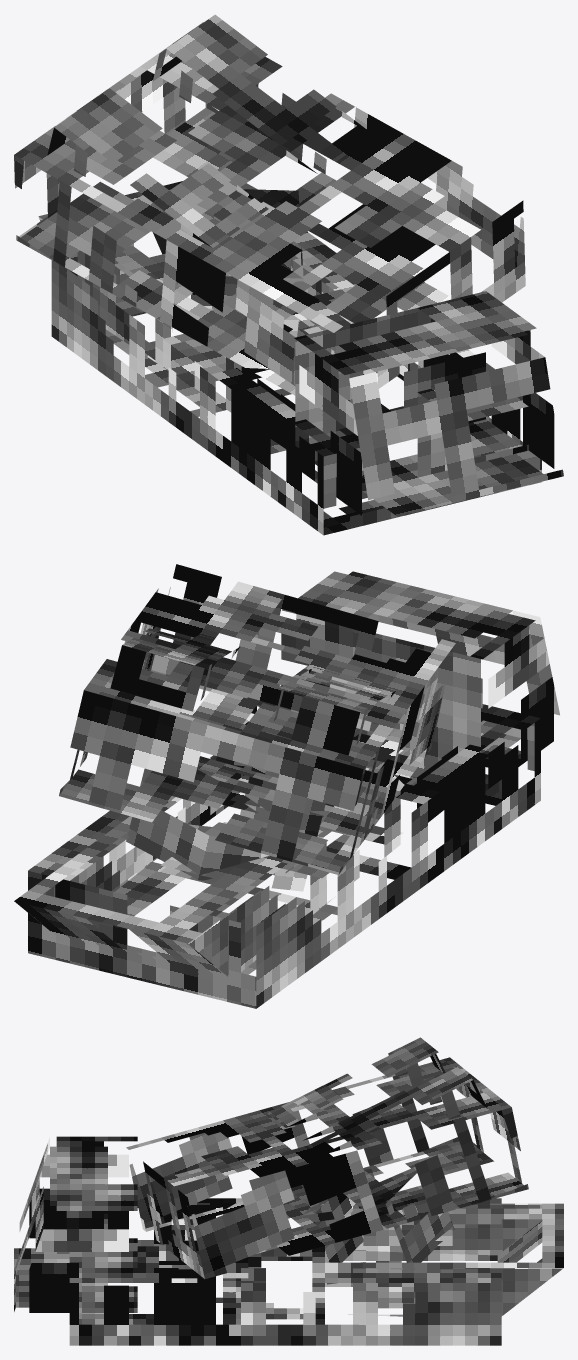
The model's file is lrmc_wreck.glb.
The picture shows the model from 3 angles, top to bottom: view 1: azimuth 30°, elevation 25°; view 2: azimuth 150°, elevation 25°; view 3: azimuth 270°, elevation 25°; orthographic projection. The views are drawn at different scales.
Visible parts, largest first — view 1: turretbit, LrmcL1; view 2: LrmcL1, turretbit; view 3: LrmcL1, turretbit.
Part boxes in pixels (x1,y1,x2,y2): turretbit: (14, 14, 525, 395); LrmcL1: (38, 181, 563, 535); LrmcL1: (14, 571, 559, 1008); turretbit: (59, 564, 455, 891); LrmcL1: (14, 1136, 563, 1345); turretbit: (126, 1037, 528, 1284).
Bounding box in the file's own units: 4.93 × 3.95 × 8.28.
Materials: 1 (1 with a texture image).
